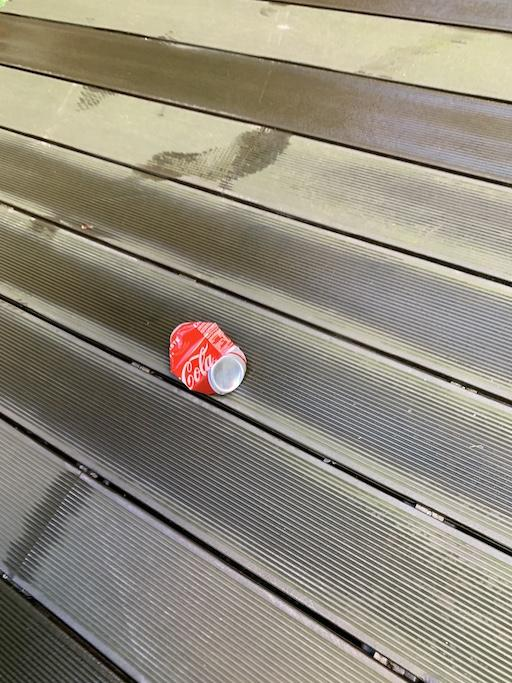Aluminum can: (166, 312, 264, 416)
